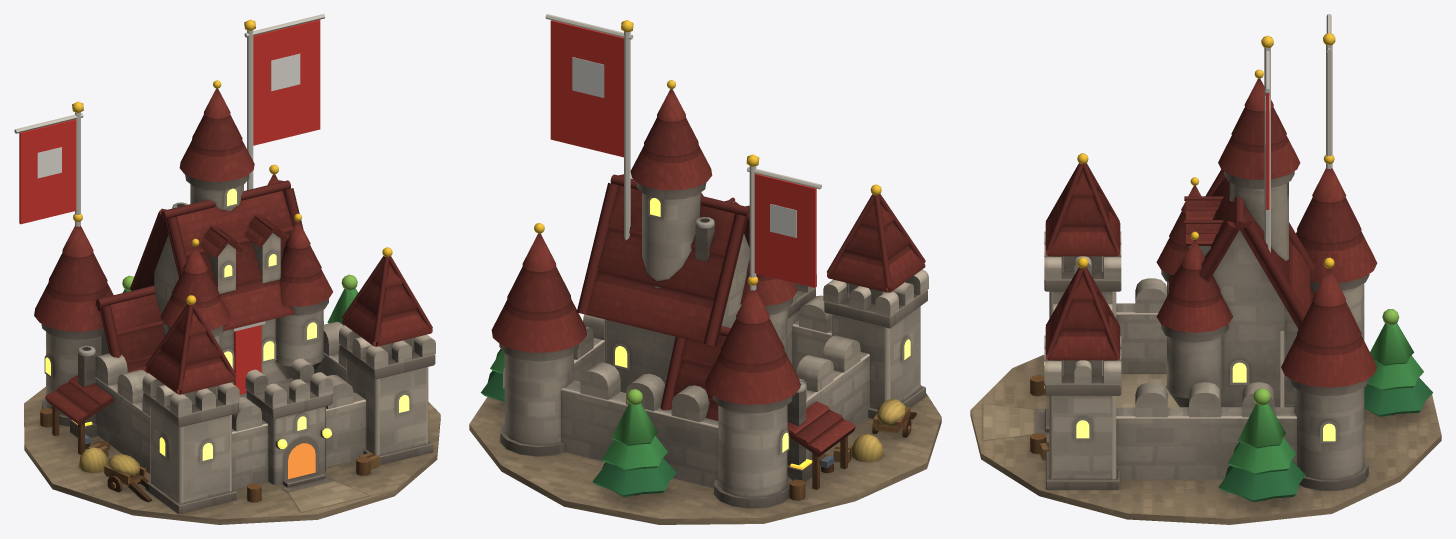
The model's file is residence_dl4_red.glb.
3 renders of one model, left to right at view 1: azimuth 30°, elevation 25°; view 2: azimuth 150°, elevation 25°; view 3: azimuth 270°, elevation 25°, orthographic. The views are drawn at different scales.
Parts seen in each view (by area): view 1: residence_dl4_red; view 2: residence_dl4_red; view 3: residence_dl4_red.
Boxes of the visible parts, x1,y1,x2,y2 form: residence_dl4_red: (14,14,440,524); residence_dl4_red: (469,14,941,524); residence_dl4_red: (970,14,1441,524).
Size of the model in its own units: 1.67 by 1.68 by 1.68.
Materials: 5 (1 with a texture image).
